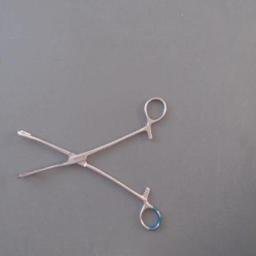Sponge Forceps: (10, 90, 170, 234)
